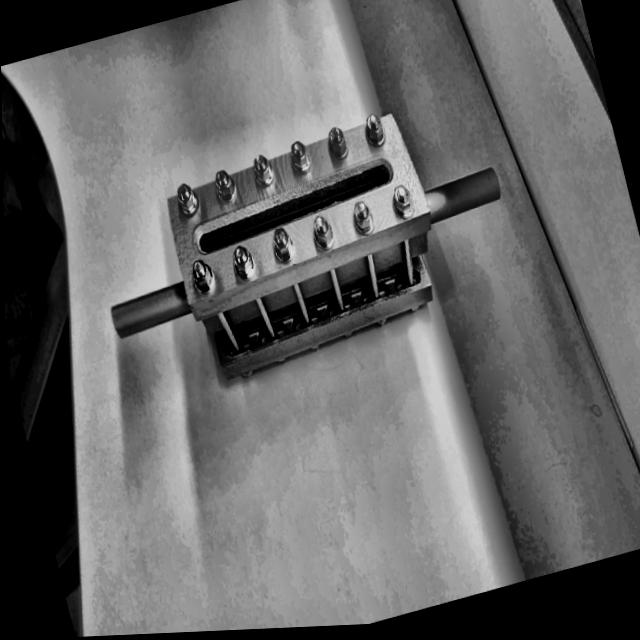ShuiWeiQi_12: (59, 44, 536, 424)
